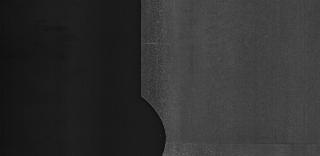welding line: (164, 140, 320, 150)
